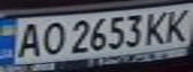2: (66, 17, 93, 55)
3: (124, 11, 148, 47)
5: (106, 13, 130, 51)
6: (87, 16, 112, 53)
A: (12, 20, 45, 58)
K: (142, 9, 175, 46), (160, 6, 193, 43)
O: (36, 20, 66, 56)
